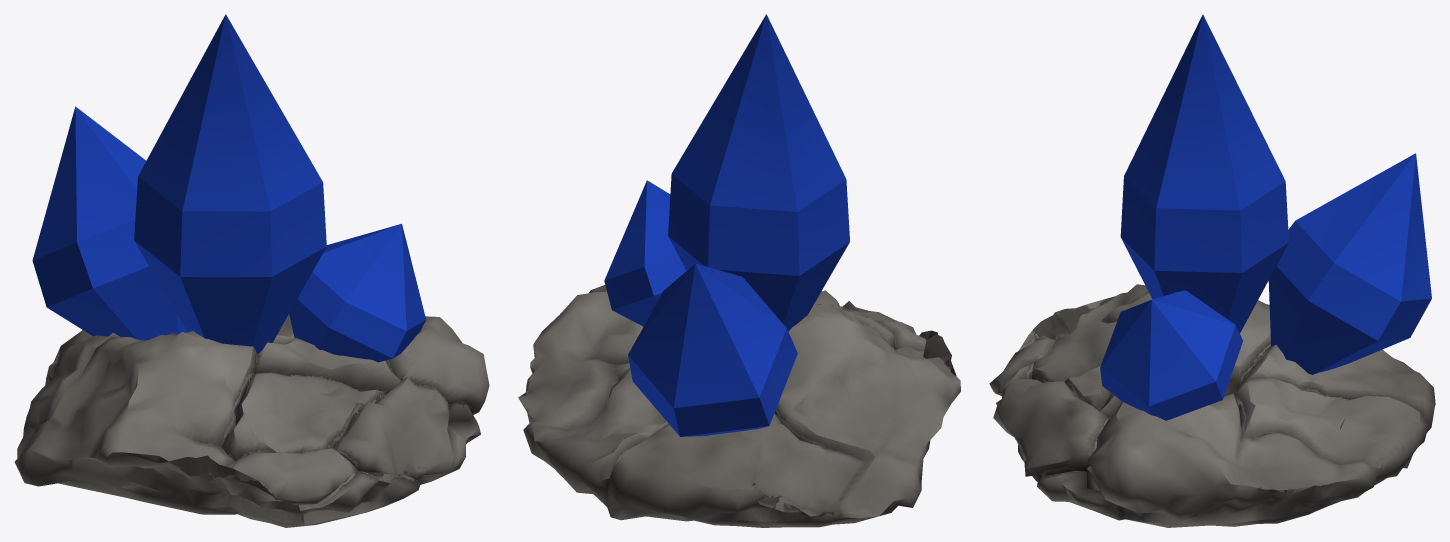
Rendered from zafiro_bruto.fbx.
The picture shows the model from 3 angles, left to right: view 1: azimuth 30°, elevation 25°; view 2: azimuth 150°, elevation 25°; view 3: azimuth 270°, elevation 25°; orthographic projection. The views are drawn at different scales.
Parts seen in each view (by area): view 1: zafiro_bruto_cristal, zafiro_bruto; view 2: zafiro_bruto, zafiro_bruto_cristal; view 3: zafiro_bruto_cristal, zafiro_bruto.
Part boxes in pixels (x1,y1,x2,y2): zafiro_bruto_cristal: [32, 14, 426, 362]; zafiro_bruto: [14, 314, 489, 527]; zafiro_bruto: [518, 285, 960, 527]; zafiro_bruto_cristal: [604, 14, 849, 436]; zafiro_bruto_cristal: [1100, 14, 1431, 420]; zafiro_bruto: [989, 284, 1435, 527].
Size of the model in its own units: 2.29 by 2.44 by 2.29.
2 materials, 2 textured.
